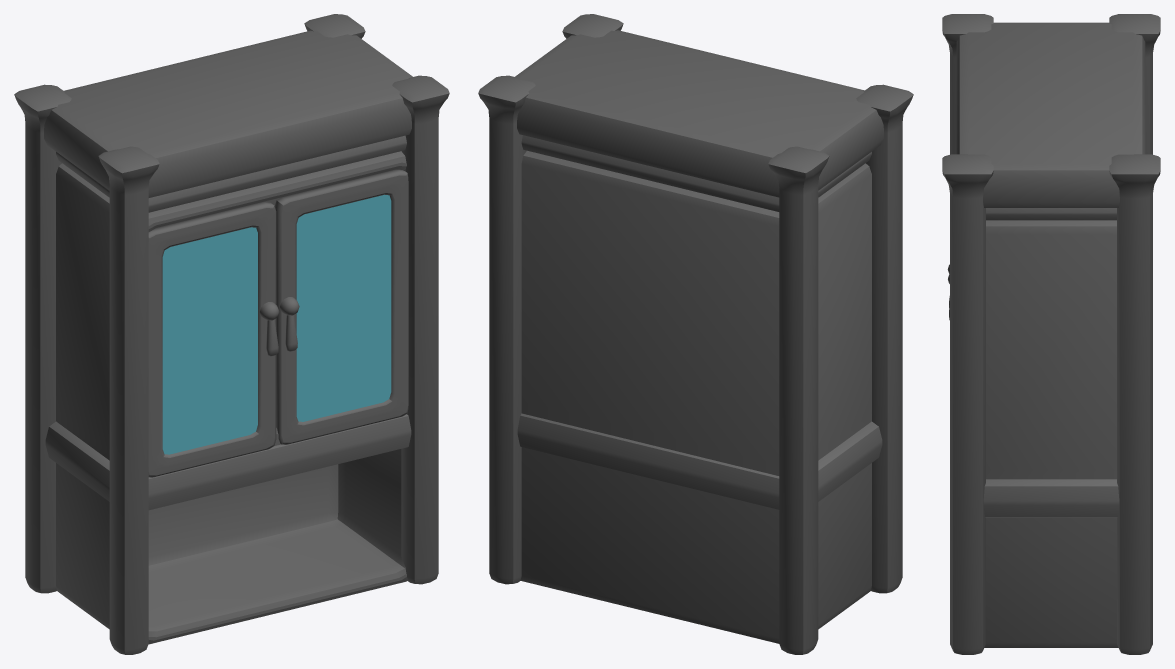
The model's file is SM_cupboard_03.fbx.
The picture shows the model from 3 angles, left to right: view 1: azimuth 30°, elevation 25°; view 2: azimuth 150°, elevation 25°; view 3: azimuth 270°, elevation 25°; orthographic projection.
Visible parts, largest first — view 1: Box359; view 2: Box359; view 3: Box359.
Boxes of the visible parts, left/top/right/bottom form: Box359: left=14, top=14, right=449, bottom=654; Box359: left=478, top=14, right=913, bottom=654; Box359: left=942, top=14, right=1160, bottom=654.
Bounding box in the file's own units: 72.52 × 103 × 41.76.
